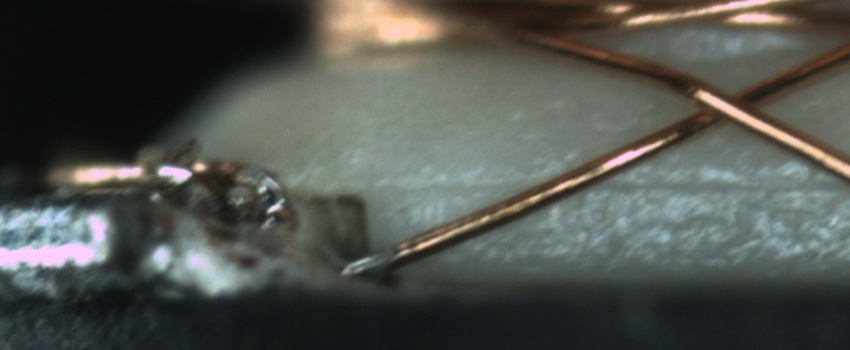CL: (678, 71, 781, 135)
DL: (367, 155, 850, 221)
TE: (47, 150, 306, 228)
TS: (339, 246, 399, 278)
